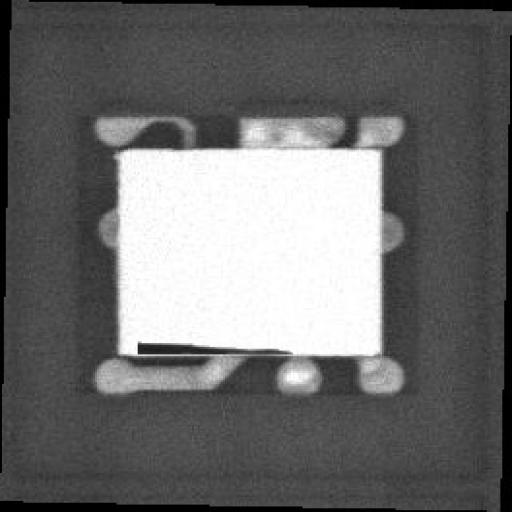DIE_BROKEN: (128, 336, 295, 356)
